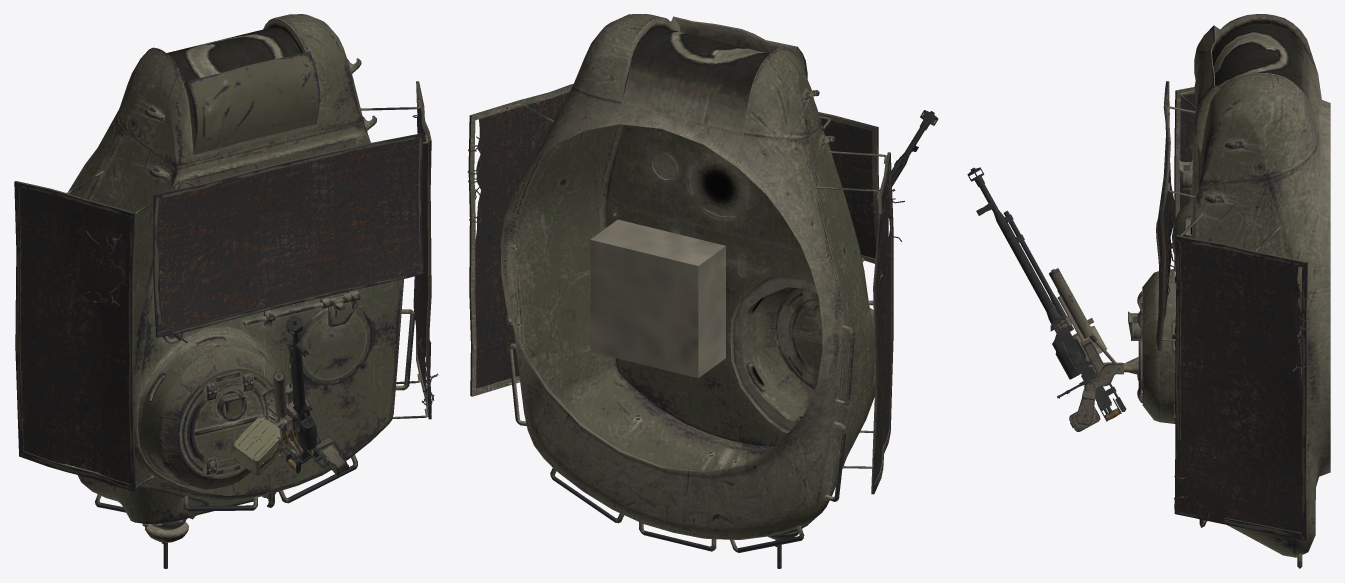
Rendered from Turret_01.glb.
3 views of the same model, side by side, from view 1: azimuth 30°, elevation 25°; view 2: azimuth 150°, elevation 25°; view 3: azimuth 270°, elevation 25° (orthographic).
Visible parts, largest first — view 1: set_0_group_1, set_0_group_0; view 2: set_0_group_0, set_0_group_1; view 3: set_0_group_1, set_0_group_0.
Boxes of the visible parts, x1,y1,x2,y2 form: set_0_group_1: (14,81,438,491); set_0_group_0: (66,14,415,568); set_0_group_0: (500,14,874,568); set_0_group_1: (467,83,938,494); set_0_group_1: (967,81,1308,540); set_0_group_0: (1124,14,1330,568).
Size of the model in its own units: 2.77 by 3.32 by 2.13.
2 materials, 2 textured.
